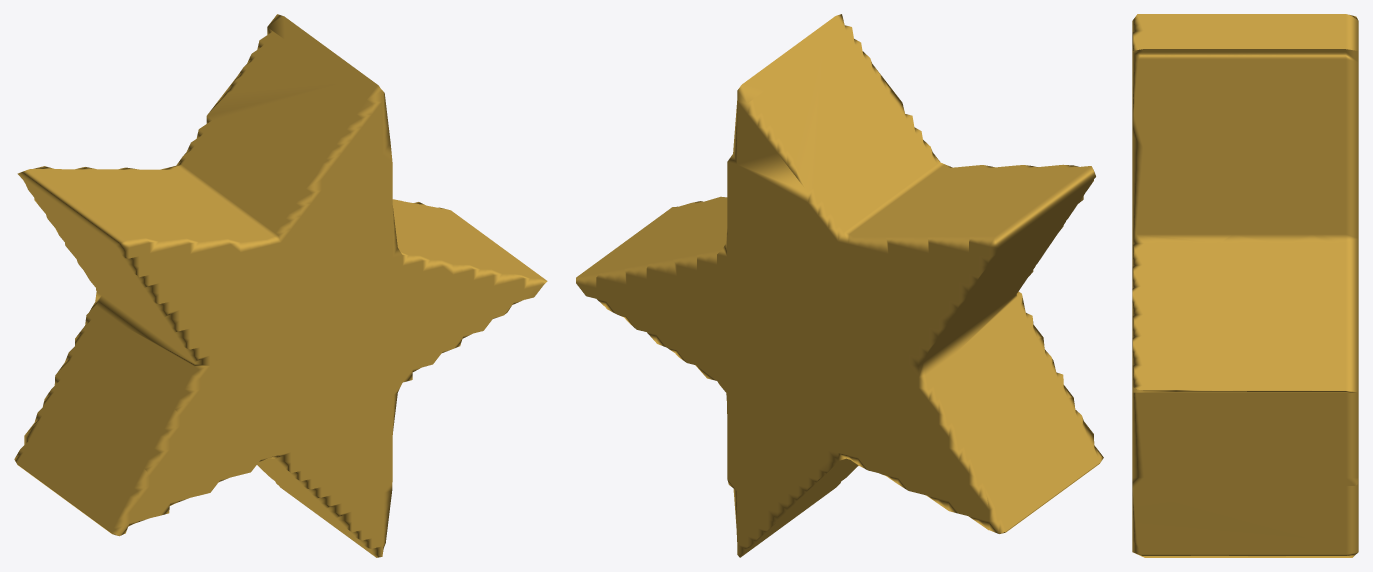
Rendered from 05_star.obj.
3 renders of one model, left to right at view 1: azimuth 30°, elevation 25°; view 2: azimuth 150°, elevation 25°; view 3: azimuth 270°, elevation 25°, orthographic. The views are drawn at different scales.
Visible parts, largest first — view 1: claycore; view 2: claycore; view 3: claycore.
Part boxes in pixels (x1,y1,x2,y2): claycore: (14,14,547,557); claycore: (576,14,1103,557); claycore: (1132,14,1358,557).
Size of the model in its own units: 1.43 by 1.49 by 0.6.
